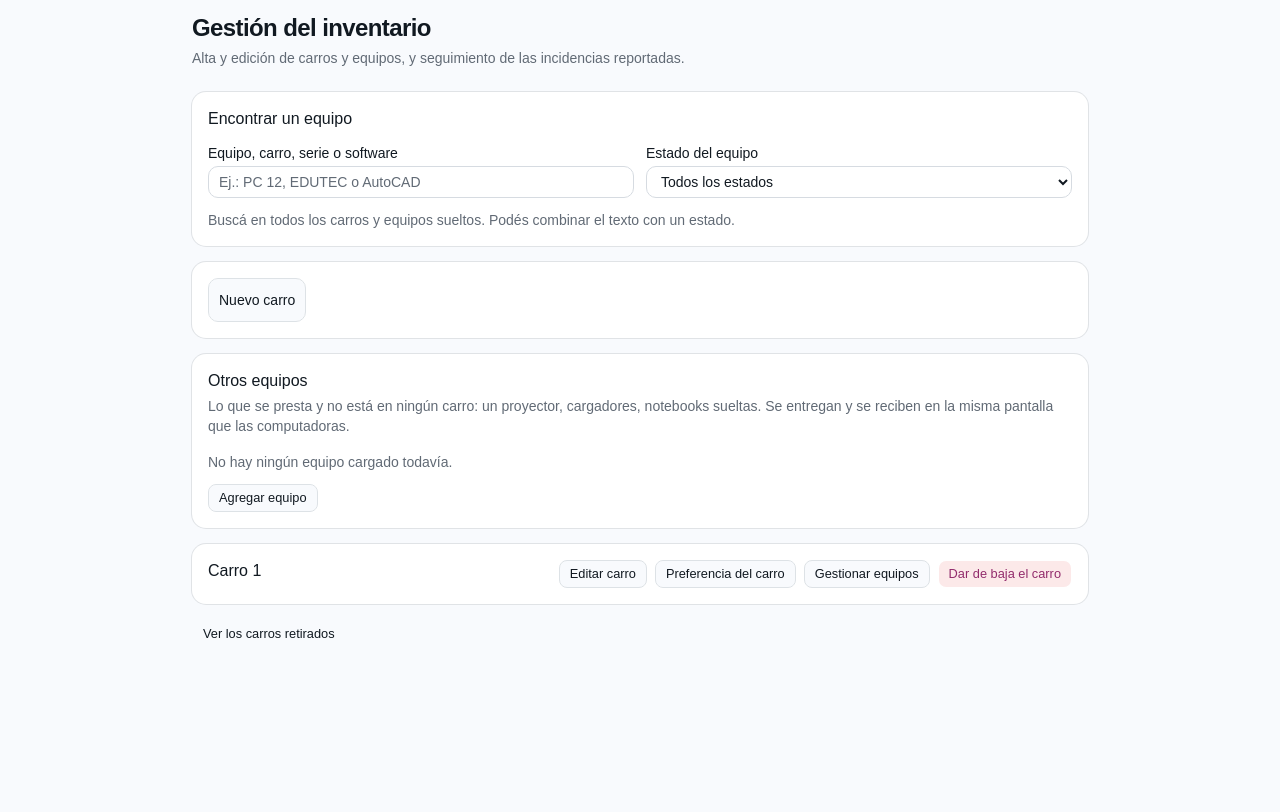
Test case: InventarioAdminPage › combina búsqueda y estado en todo el inventario
Expected: the field labelled "Equipo, carro, serie o software" is enabled, [208, 166, 634, 198]
Select "Fuera de servicio" in the dropdown labelled "Estado del equipo" at [859, 182], box [646, 166, 1072, 198]
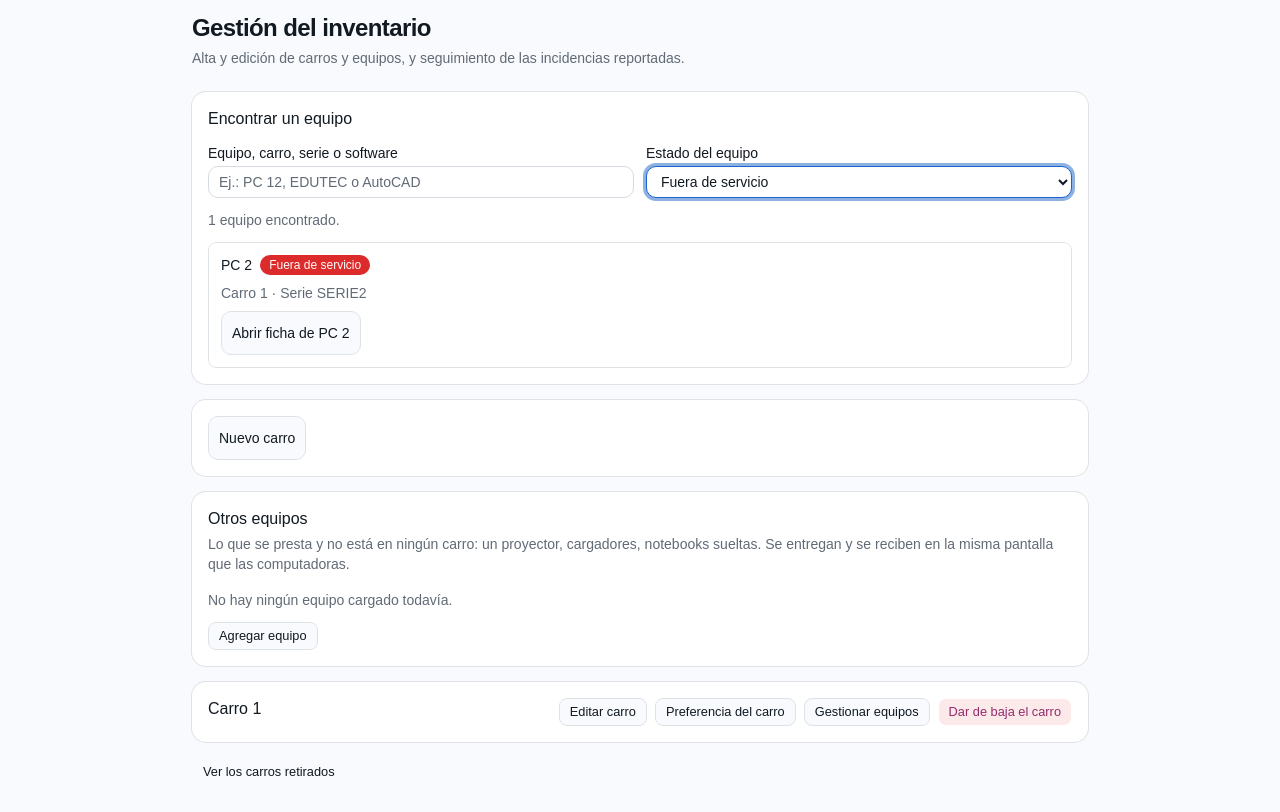
Expected: the button "Abrir ficha de PC 2" is shown, [221, 311, 360, 355]
Type "serie2" into the field labelled "Equipo, carro, serie o software" at [421, 182], box [208, 166, 634, 198]
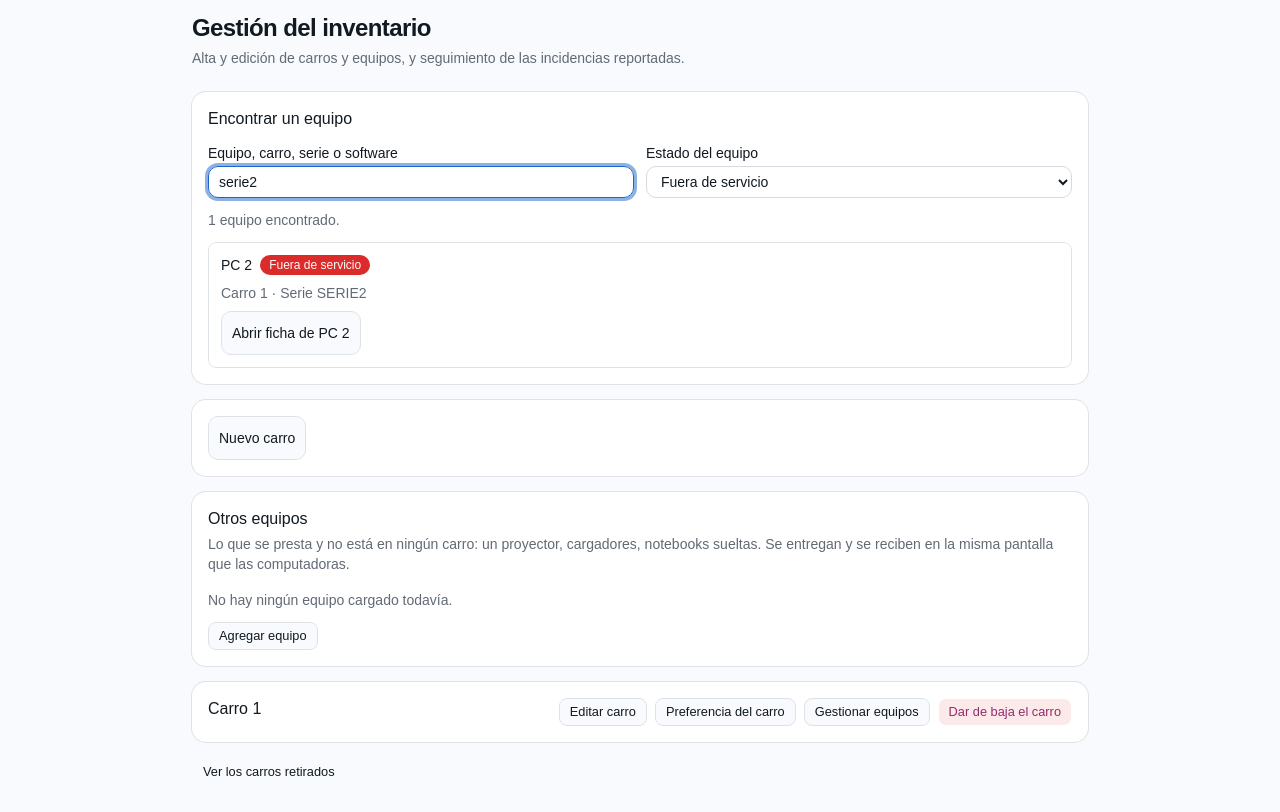
Expected: the button "Abrir ficha de PC 2" is shown, [221, 311, 360, 355]
Replace the text in the field labelled "Equipo, carro, serie o software" with "sin coincidencias" at [421, 182], box [208, 166, 634, 198]
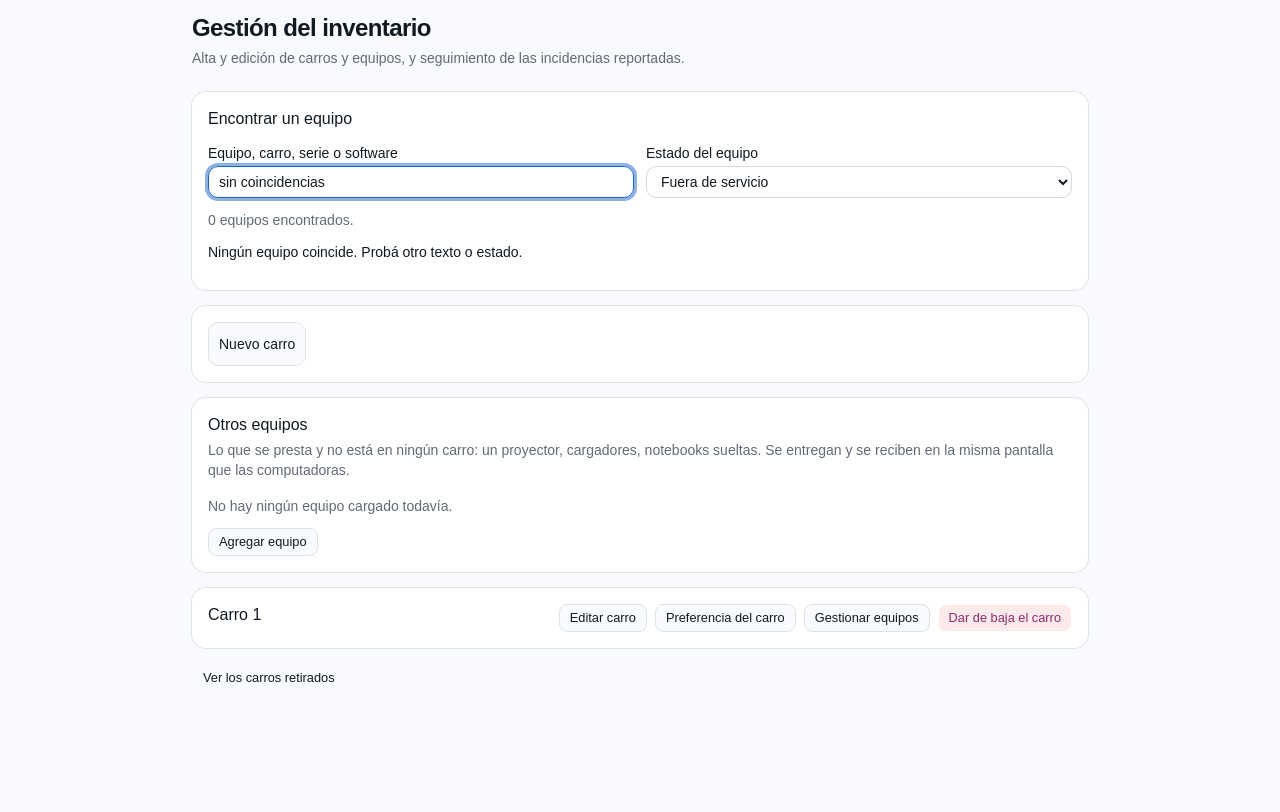
Expected: the text "Ningún equipo coincide. Probá otro texto o estado." is shown, [208, 244, 522, 260]
